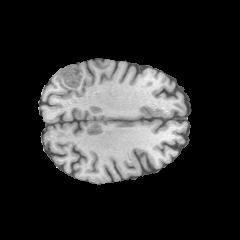glioma: (54, 64, 84, 89)
